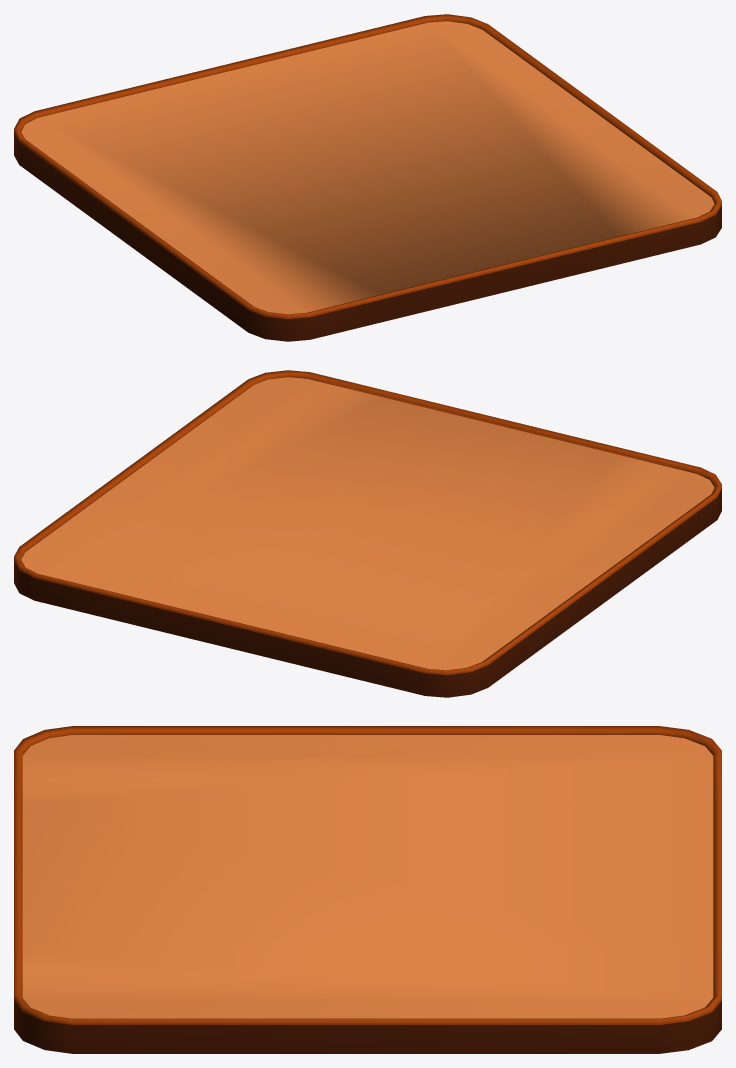
Rendered from PathFoodCOurt.fbx.
3 renders of one model, top to bottom at view 1: azimuth 30°, elevation 25°; view 2: azimuth 150°, elevation 25°; view 3: azimuth 270°, elevation 25°, orthographic. The views are drawn at different scales.
Parts seen in each view (by area): view 1: Path_FoodCourt; view 2: Path_FoodCourt; view 3: Path_FoodCourt.
Part boxes in pixels (<box>): Path_FoodCourt: <box>14,14,721,341</box>; Path_FoodCourt: <box>14,370,721,697</box>; Path_FoodCourt: <box>14,726,721,1053</box>.
Size of the model in its own units: 1200 by 65 by 1223.
